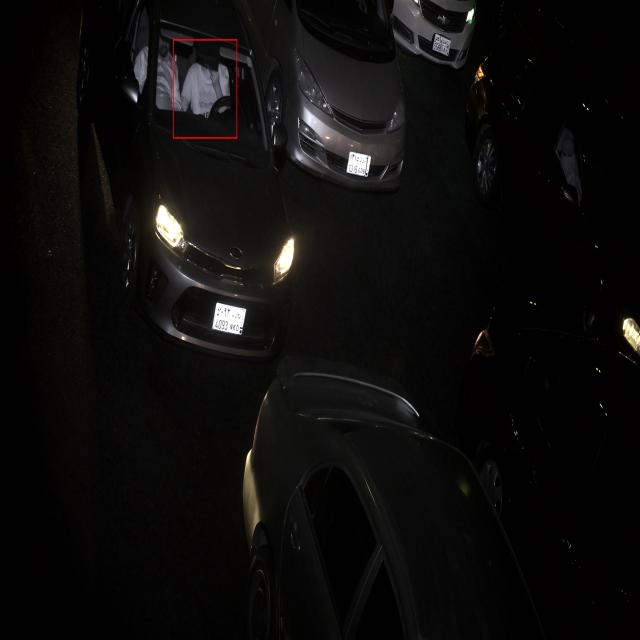windshield: (160, 23, 272, 166), (299, 6, 395, 62)
